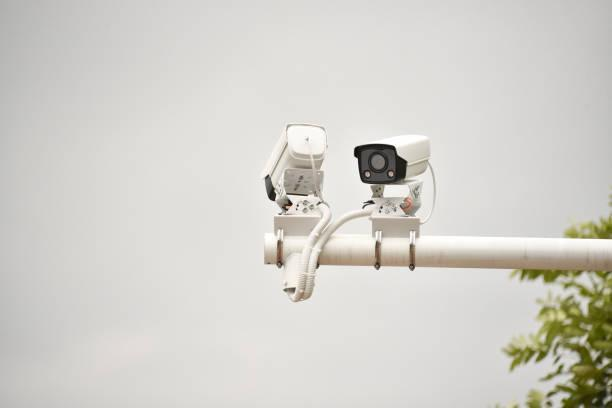camera: (348, 110, 442, 242), (257, 118, 339, 231)
